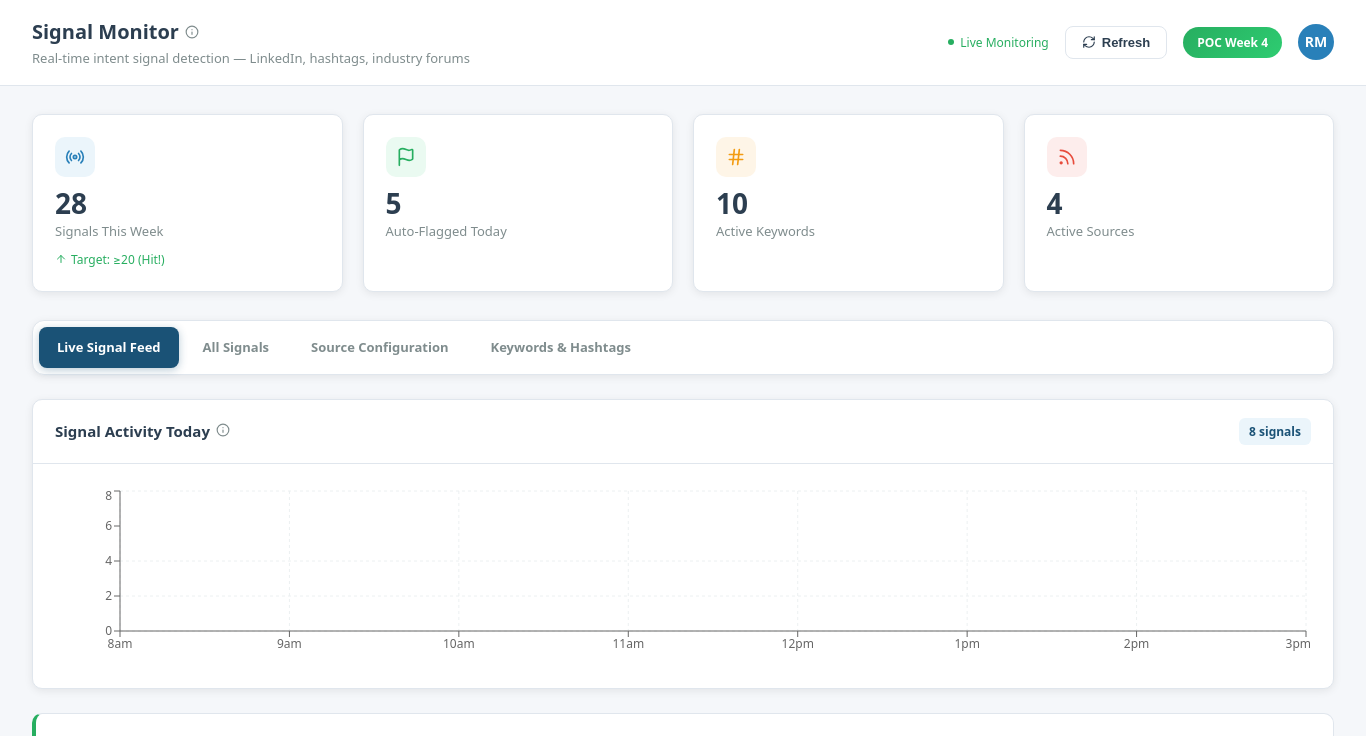
Scenario: Signal Sources — S-01 to S-04 › S-01: Add Channel button is visible in Source Configuration tab
Navigate to Source Configuration tab
Step 1. Click the text "Source Configuration" → coordinates (380, 347), box 311,338 -> 449,356
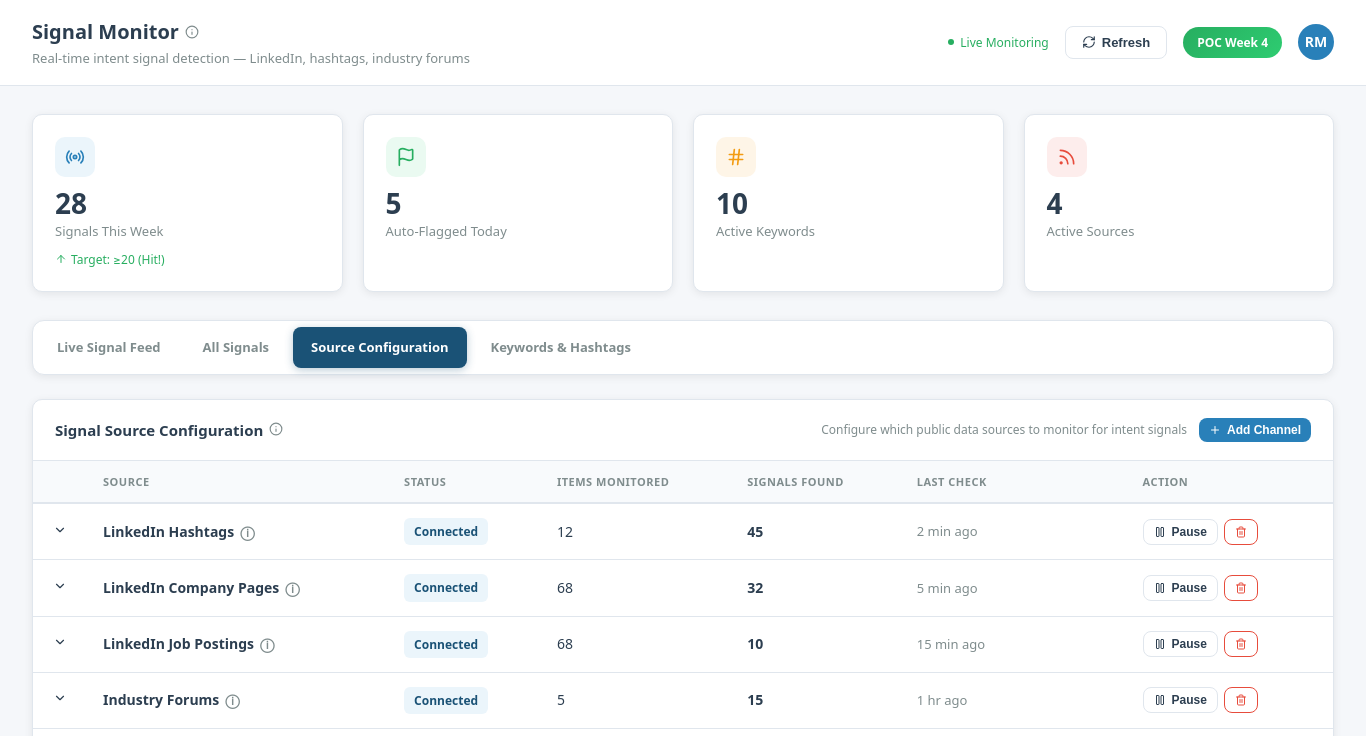
Now the button "Add Channel" is shown, box 1199,418 -> 1311,442
